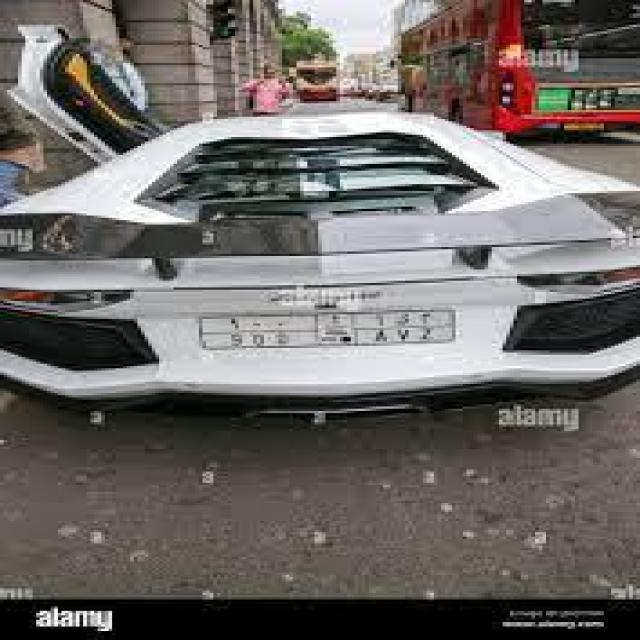license_plate: (181, 292, 470, 359), (466, 388, 590, 436), (539, 108, 618, 139)
